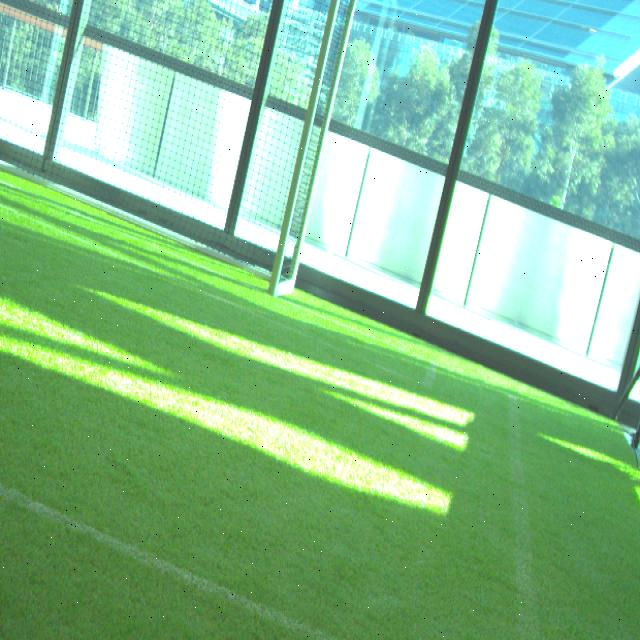goalpost: (270, 0, 345, 293)
